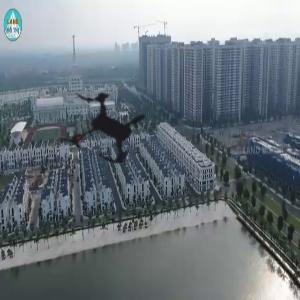drone: (22, 38, 197, 213)
